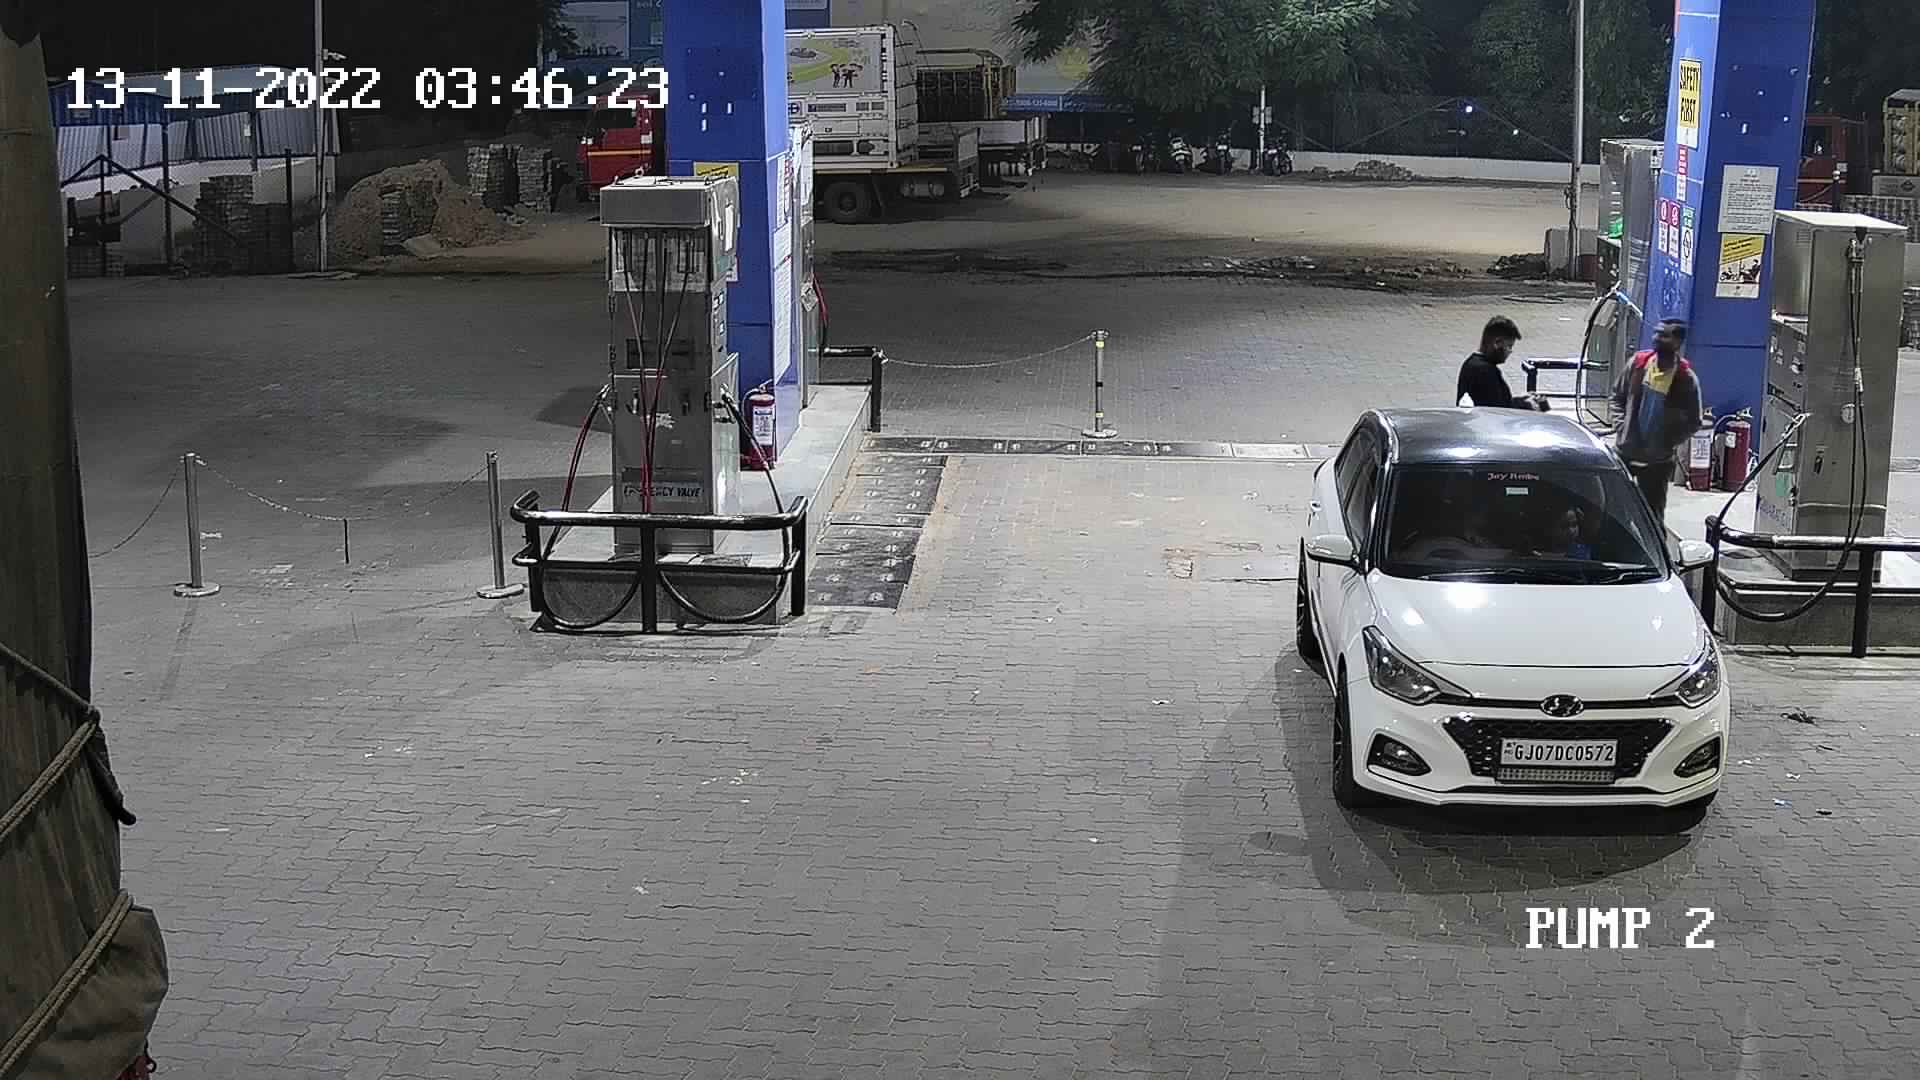Bike: (1162, 111, 1203, 179), (1120, 120, 1164, 182), (1197, 113, 1238, 181), (1257, 117, 1299, 179)
Car: (1287, 400, 1738, 841)
HMV: (0, 0, 202, 1076), (771, 12, 990, 229), (906, 34, 1059, 200), (1778, 61, 1917, 224)
Others: (1594, 307, 1708, 535)
